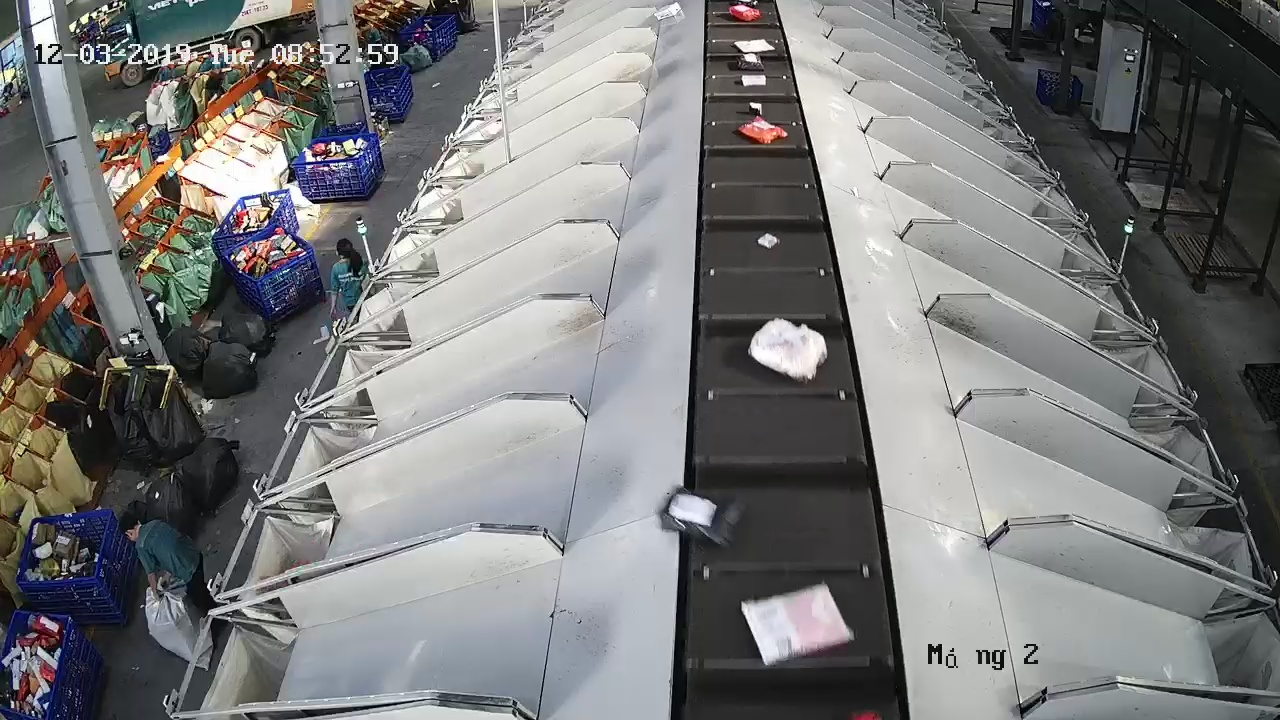parcel: (738, 580, 854, 669), (657, 485, 747, 550), (745, 316, 829, 385), (735, 116, 790, 147), (754, 230, 782, 251)
